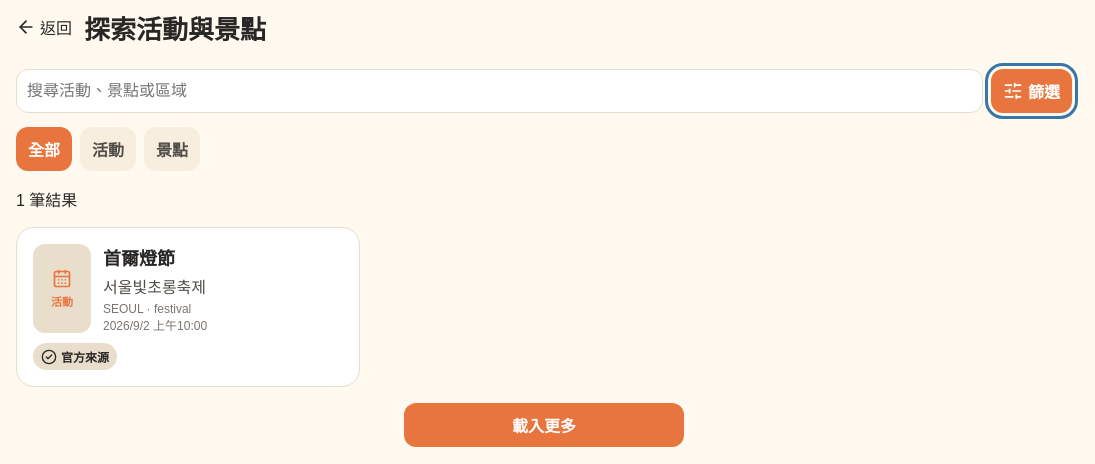
M2 discovery interactions › loads the second Explore page and appends only unseen items
expect the heading "首爾燈節" is shown: met, box [103,249,175,269]
What coordinates should you click on to do the following:
click the button "載入更多"
I would click on:
 (544, 425)
Its box is [404,403,684,447].
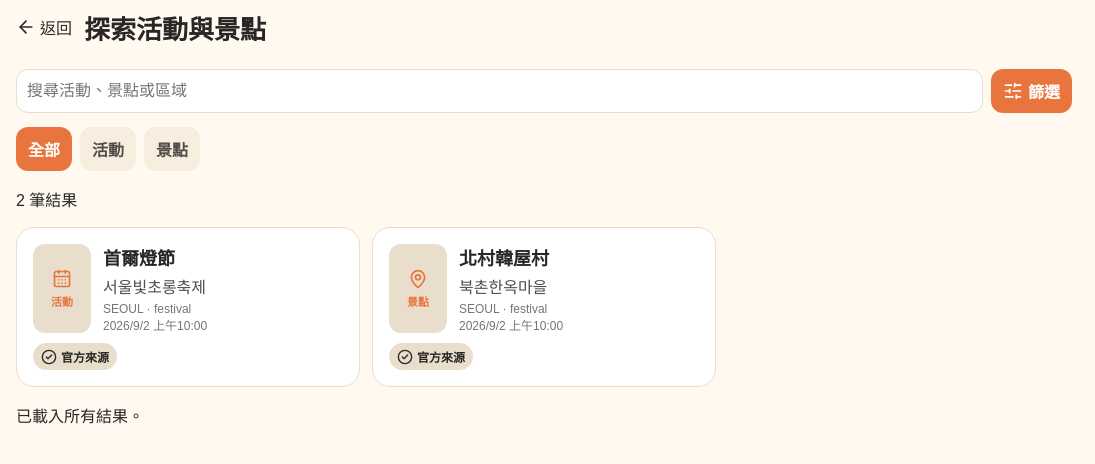
expect the number of headings "首爾燈節" is 1: met, box [103,249,175,269]
expect the heading "北村韓屋村" is shown: met, box [459,249,549,269]
